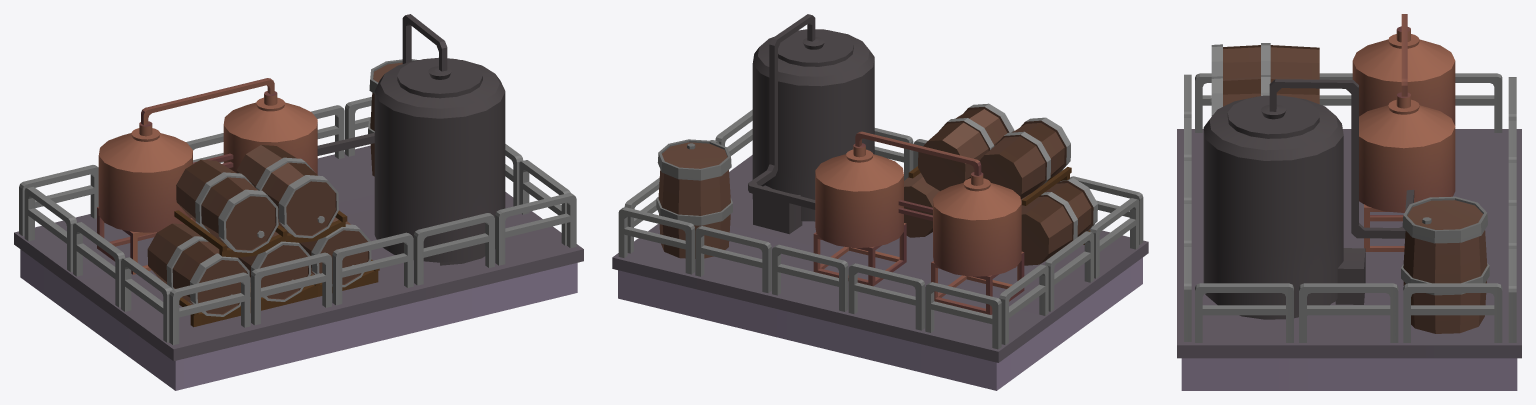
File: 3D_cuve.fbx
3 views of the same model, side by side, from view 1: azimuth 30°, elevation 25°; view 2: azimuth 150°, elevation 25°; view 3: azimuth 270°, elevation 25° (orthographic). The views are drawn at different scales.
Parts seen in each view (by area): view 1: Cube.060; view 2: Cube.060; view 3: Cube.060.
Boxes of the visible parts, x1=… form: Cube.060: x1=14, y1=14, x2=583, y2=390; Cube.060: x1=612, y1=14, x2=1148, y2=390; Cube.060: x1=1177, y1=14, x2=1521, y2=390.
Bounding box in the file's own units: 4.58 × 2.58 × 3.09.
